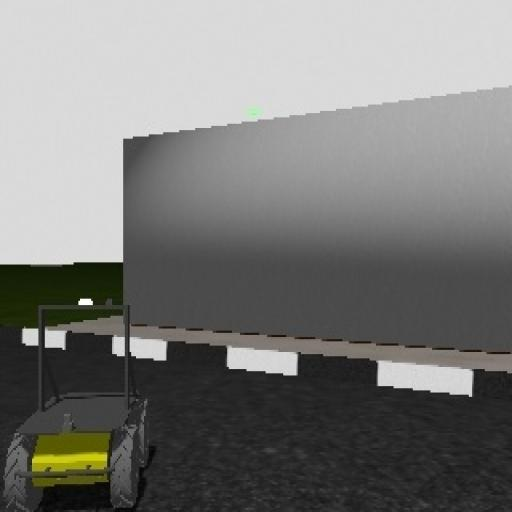huskya200: (0, 286, 150, 510)
